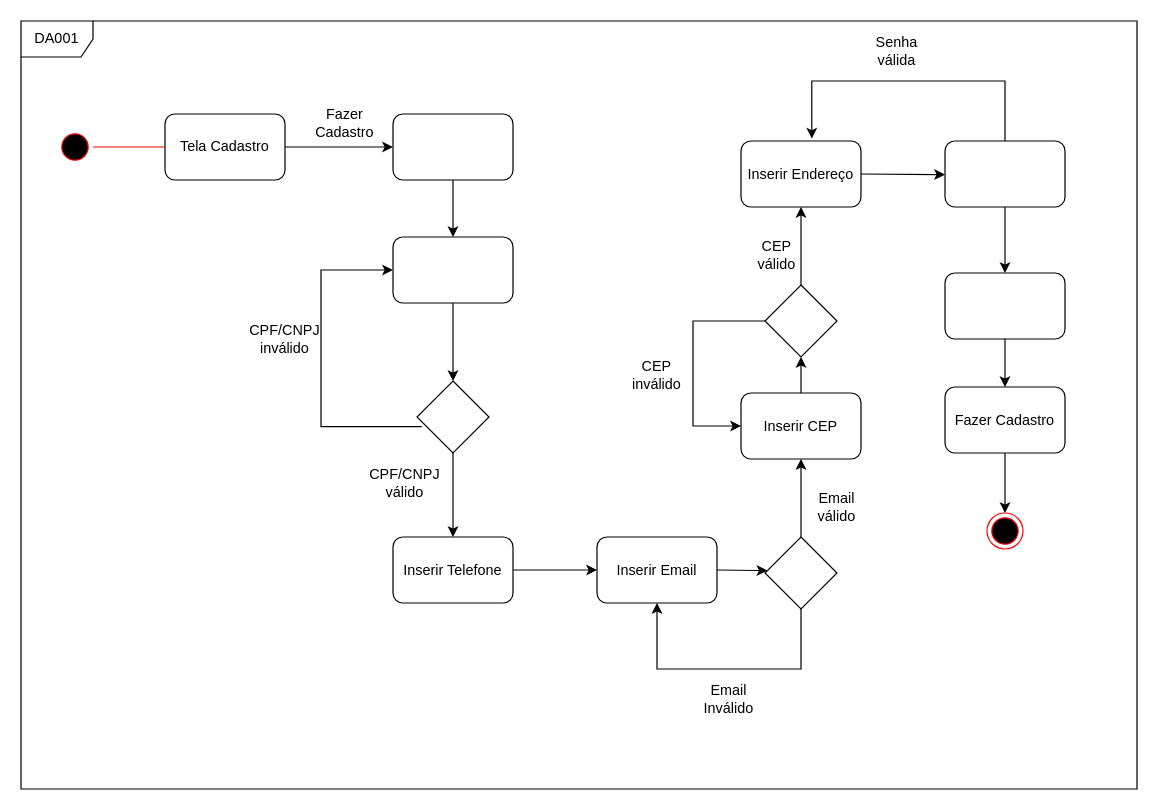
The diagram is 1158 pixels wide and 810 high, and some of its shapes have lost their labels. Each missing label, with the box of its shape:
Aceitar Termos: (944, 272, 1065, 339)
Inserir CPF/CNPJ: (392, 236, 513, 303)
Inserir o nome: (392, 113, 513, 180)
Inserir senha: (944, 140, 1065, 207)
